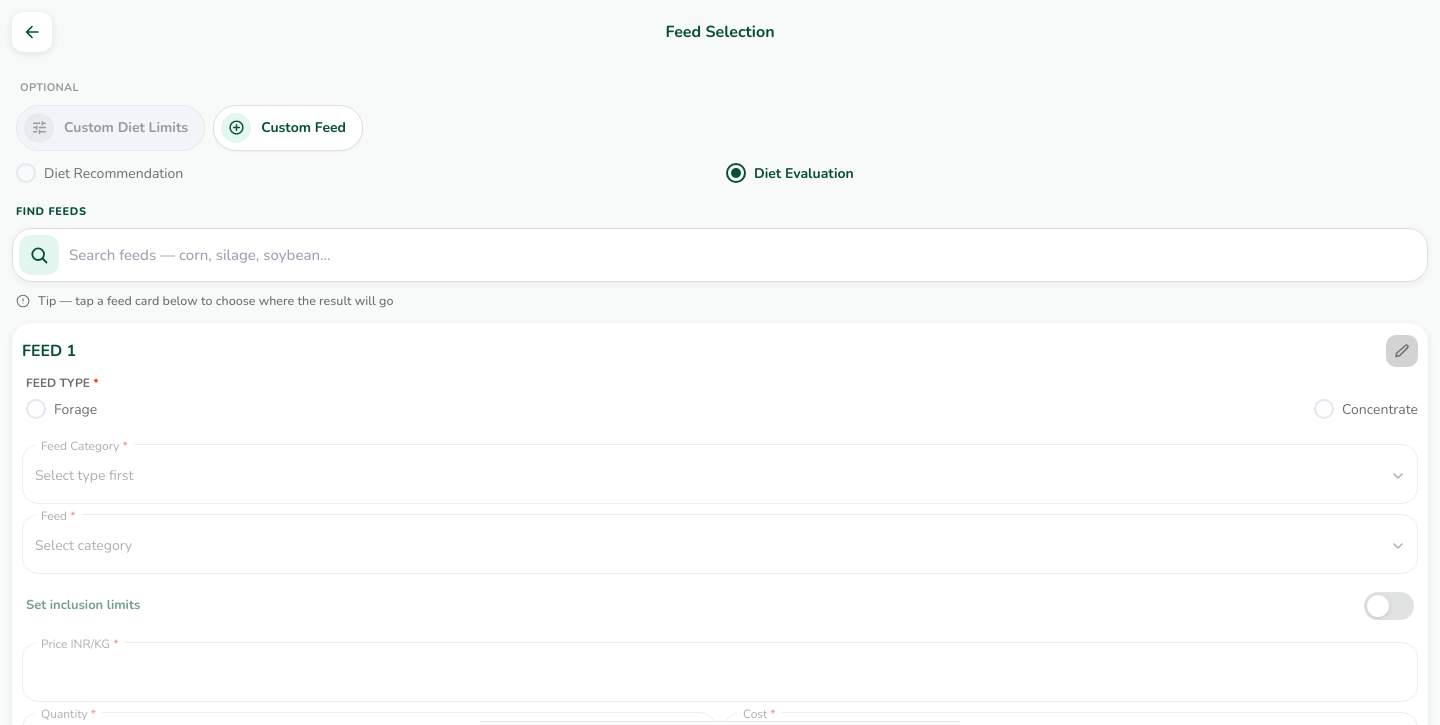
feed-selection — search pick keeps Category (no cascade clobber) › keeps category_id after a picked feed's cascades resolve out of order
Type "sugar" into the field with placeholder "Search feeds — corn, silage, soybean…" at (745, 255), box [69,236,1421,274]
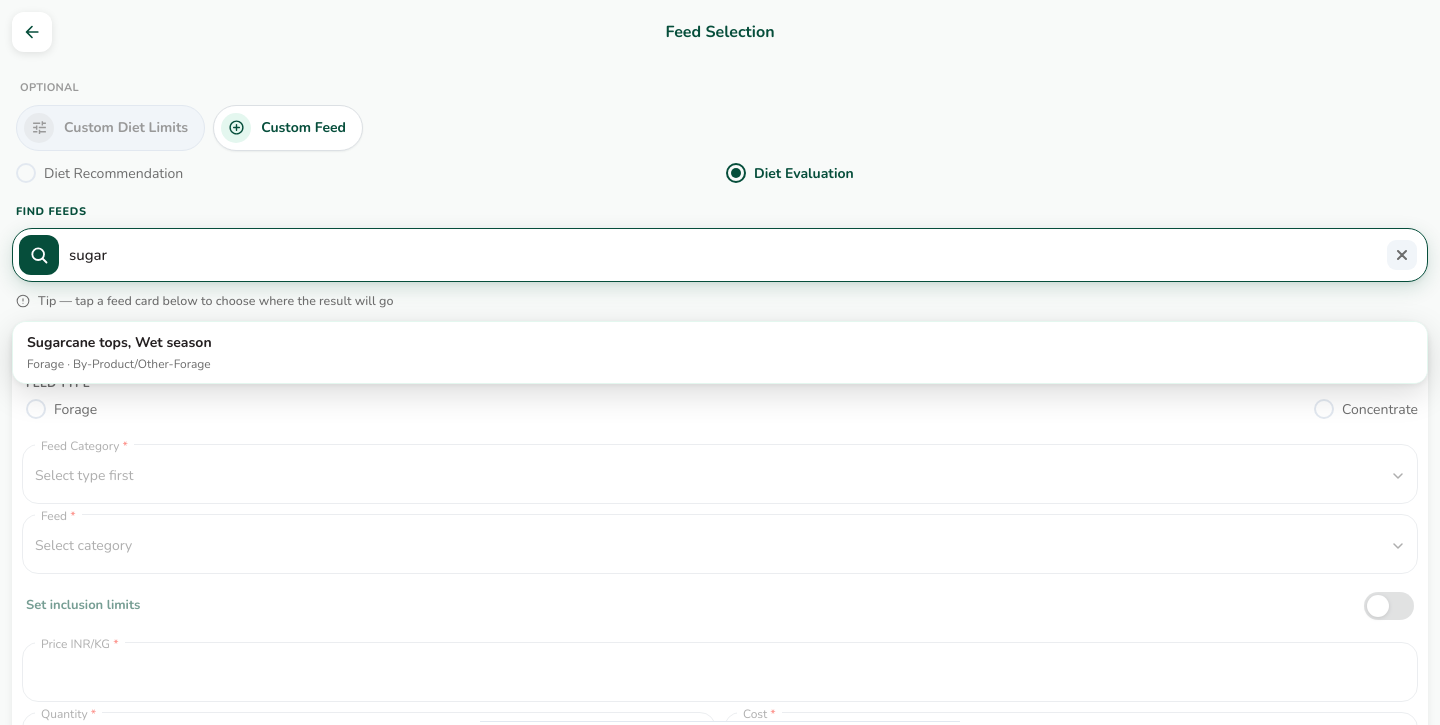
Click the text "Sugarcane tops, Wet season" at (119, 342), box [27,333,212,352]
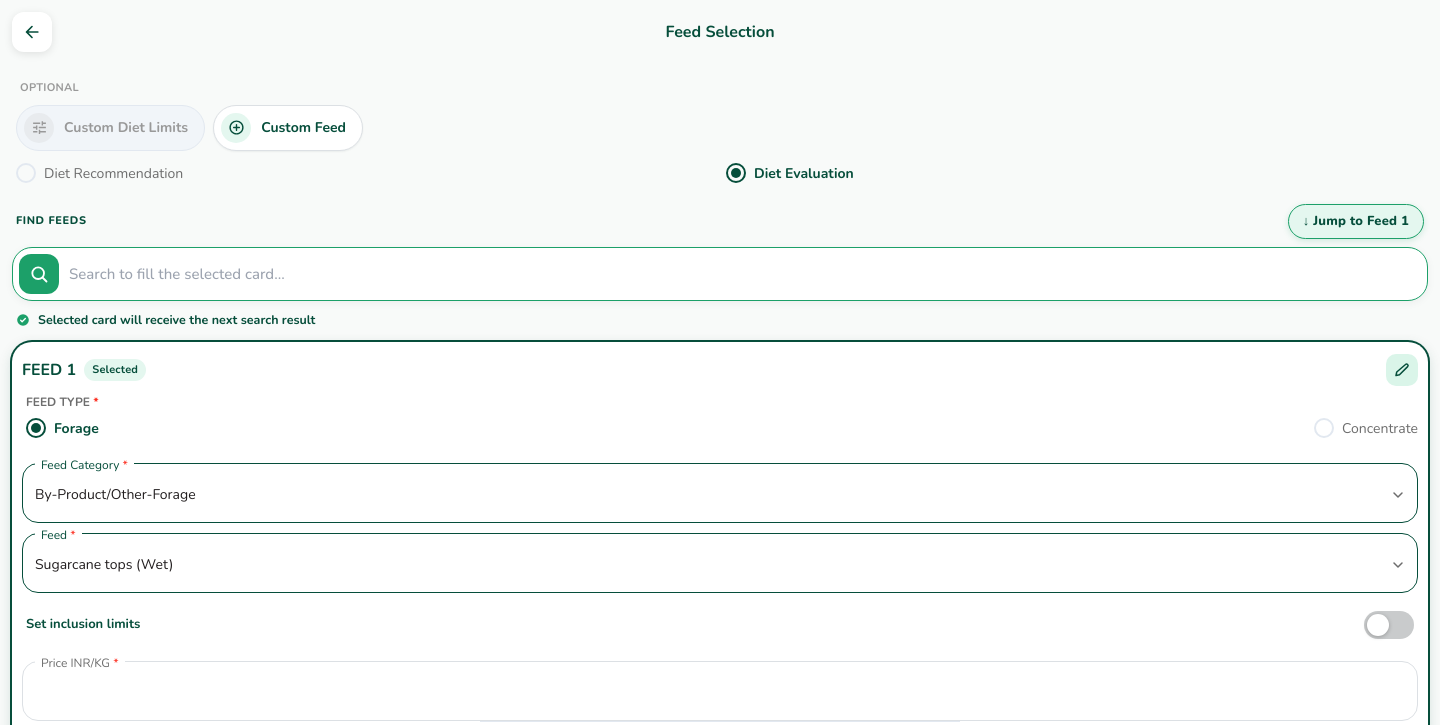
Now the text "By-Product/Other-Forage" is shown, box [35,485,196,504]
